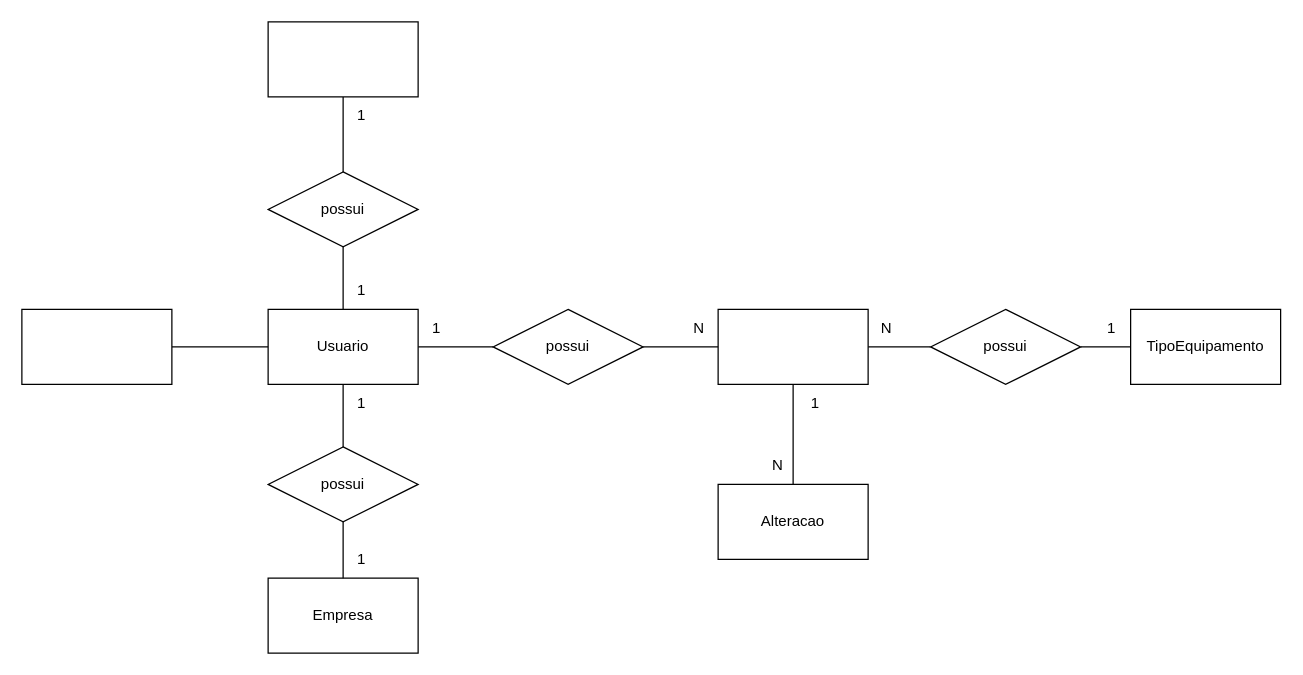
This 1303x675 diagram has some shape labels left out. Each missing label, with the centre of its shape:
Equipamentos: [792,346]
Funcionario: [342,59]
UsuarioInterno: [96,346]
